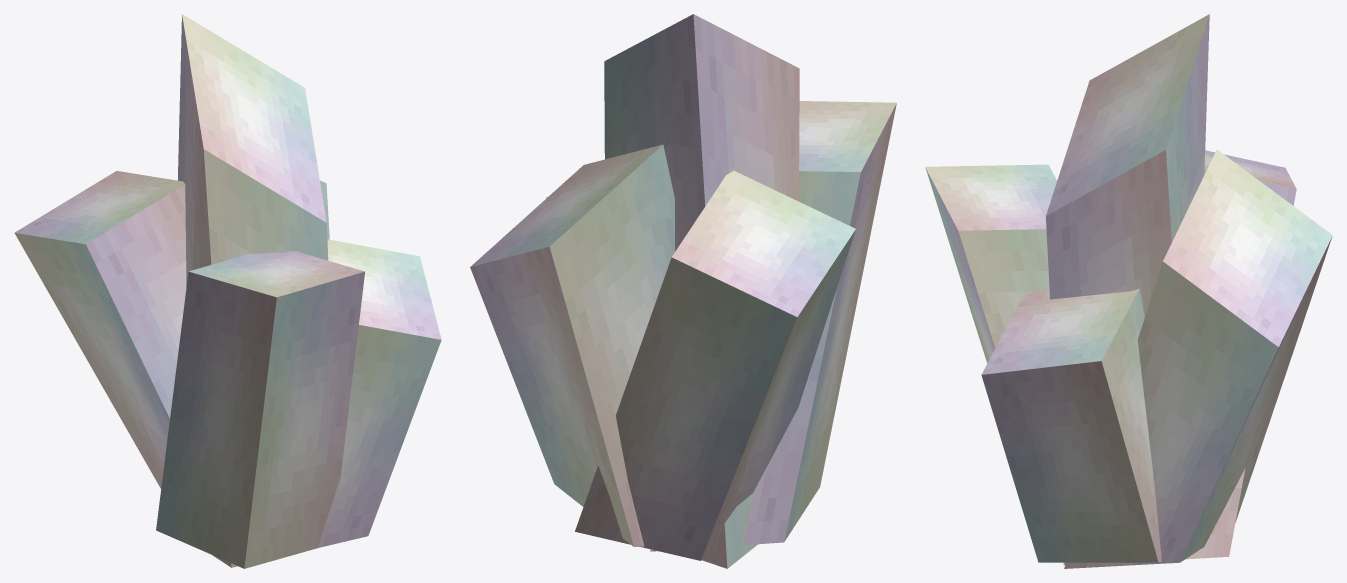
Rendered from rawquartz.obj.
The picture shows the model from 3 angles, left to right: view 1: azimuth 30°, elevation 25°; view 2: azimuth 150°, elevation 25°; view 3: azimuth 270°, elevation 25°; orthographic projection. The views are drawn at different scales.
Parts seen in each view (by area): view 1: RawQuartz; view 2: RawQuartz; view 3: RawQuartz.
Boxes of the visible parts, x1=… form: RawQuartz: x1=14, y1=14, x2=441, y2=568; RawQuartz: x1=470, y1=14, x2=896, y2=568; RawQuartz: x1=925, y1=14, x2=1332, y2=568.
Size of the model in its own units: 2.87 by 4.4 by 3.14.
Materials: 1 (1 with a texture image).
